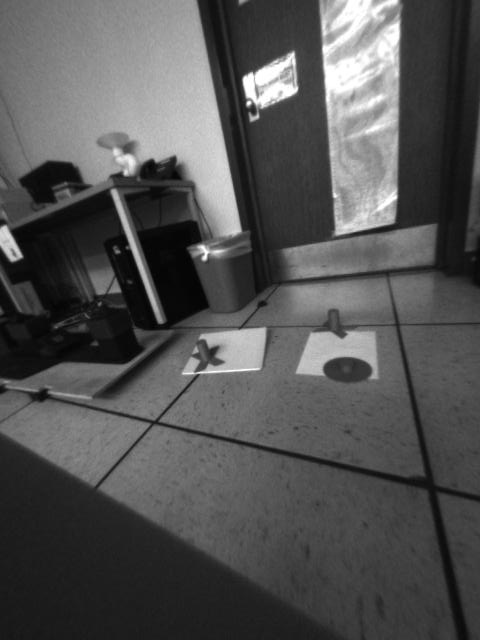X: (311, 307, 357, 337), (189, 341, 224, 373)
